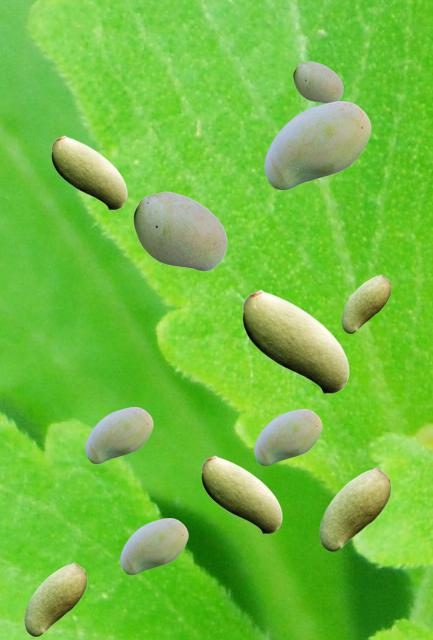green_mango: (242, 289, 348, 393), (264, 101, 370, 188), (133, 191, 226, 270), (201, 455, 281, 533), (319, 467, 390, 550), (51, 135, 126, 209), (24, 562, 86, 635), (254, 409, 321, 464), (85, 407, 152, 462), (120, 518, 187, 573), (341, 274, 390, 332), (293, 61, 342, 103)
